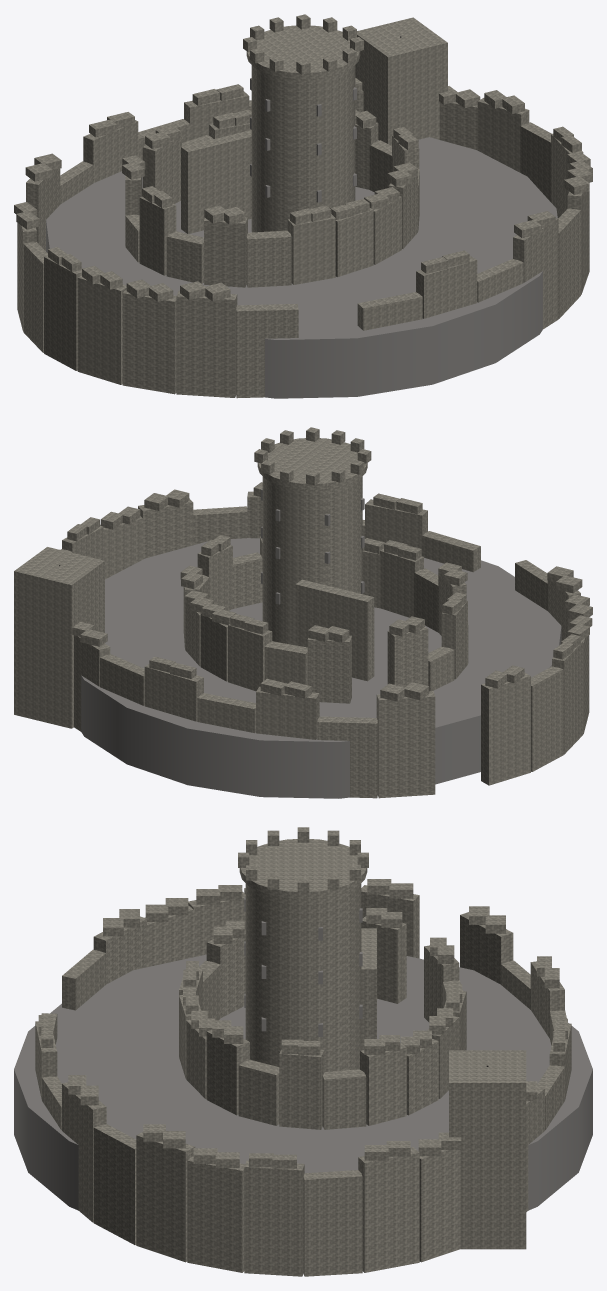
The model's file is castle_ruin.glb.
3 views of the same model, one above another, from view 1: azimuth 30°, elevation 25°; view 2: azimuth 150°, elevation 25°; view 3: azimuth 270°, elevation 25° (orthographic). The views are drawn at different scales.
Visible parts, largest first — view 1: castle_ruin; view 2: castle_ruin; view 3: castle_ruin.
Boxes of the visible parts, left/top/right/bottom form: castle_ruin: left=14, top=14, right=592, bottom=398; castle_ruin: left=14, top=427, right=592, bottom=798; castle_ruin: left=14, top=827, right=592, bottom=1276.
Bounding box in the file's own units: 69.58 × 32 × 60.
3 materials, 2 textured.
